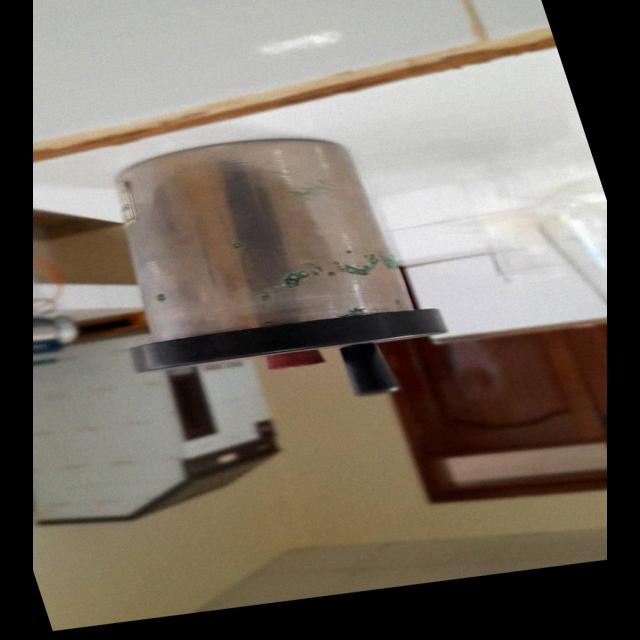Calorimeter: (69, 123, 461, 430)
